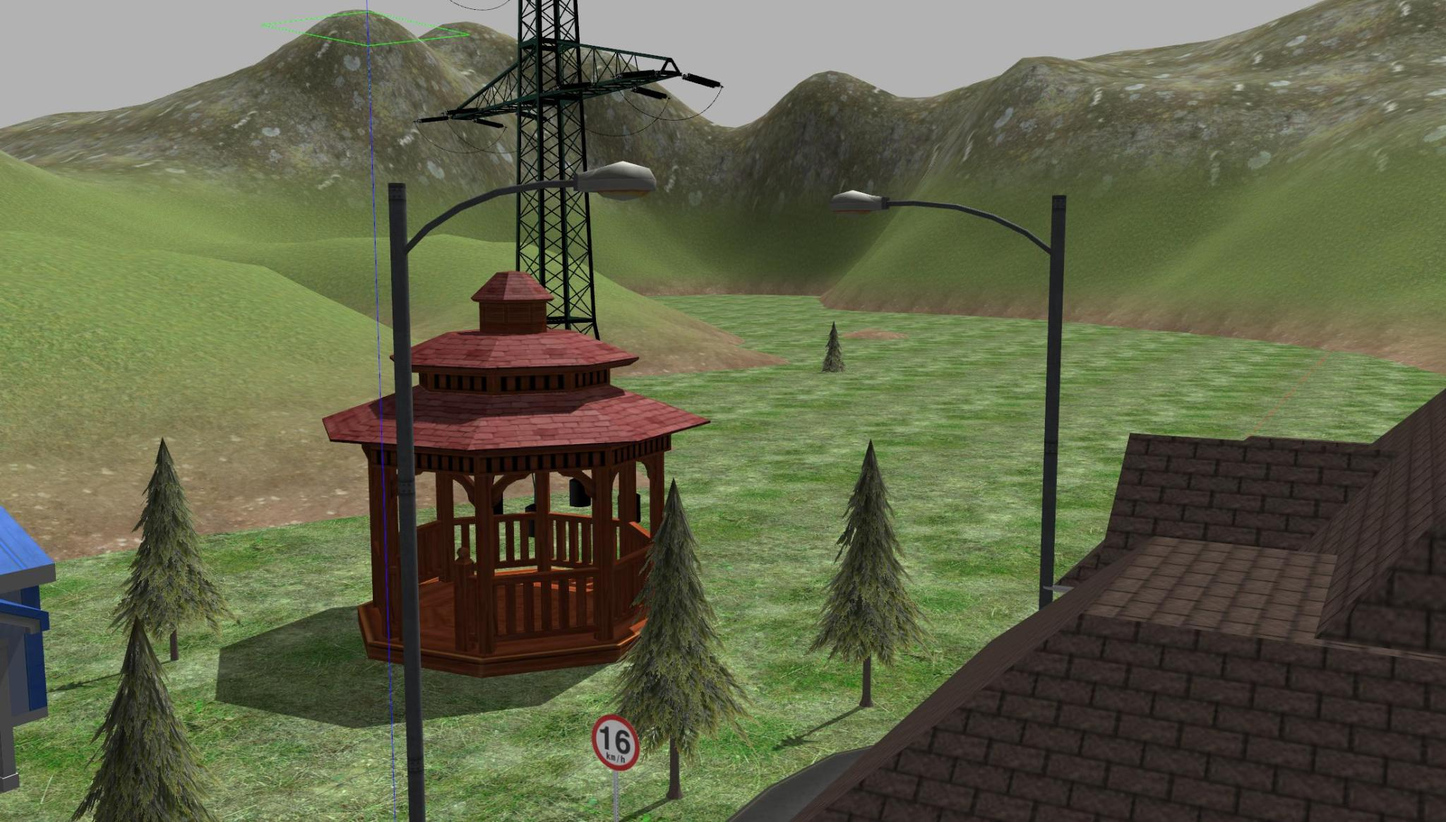tower: (451, 5, 674, 267)
